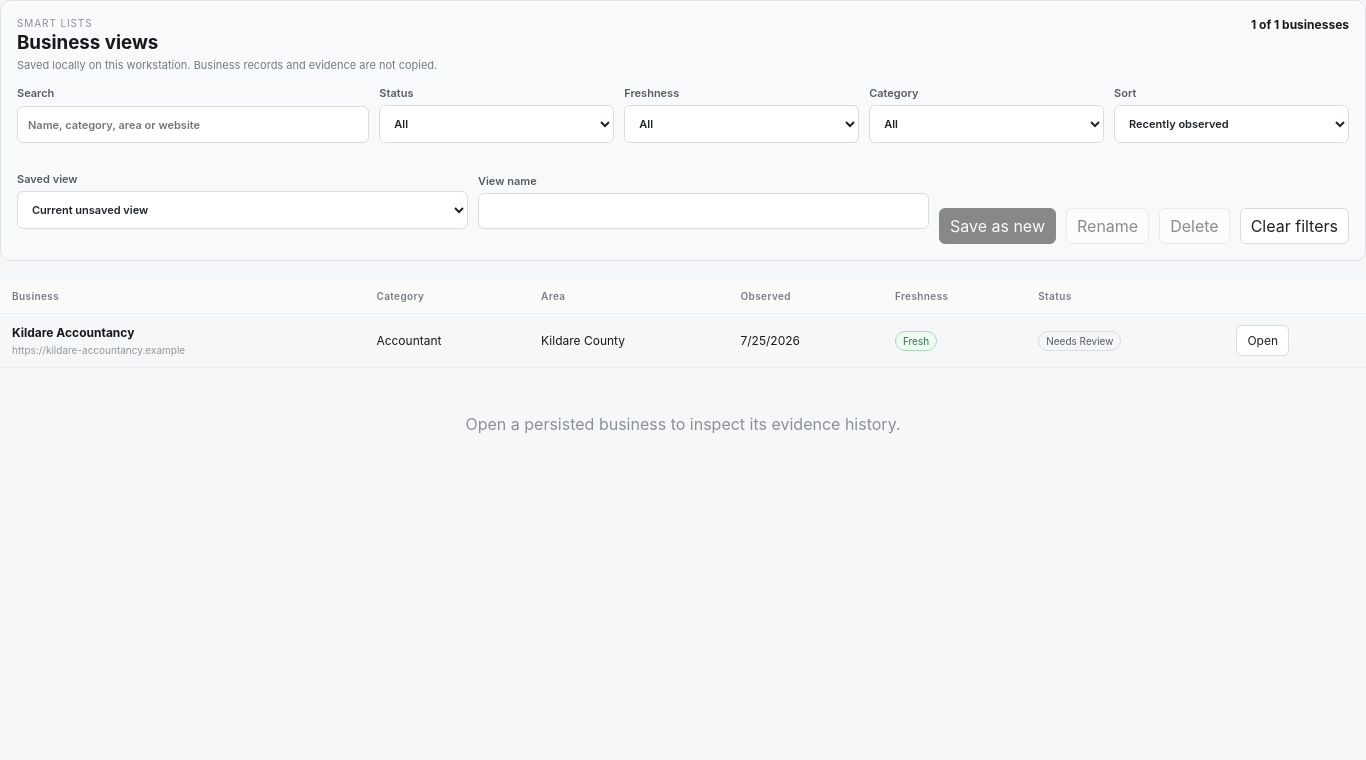
Test: BusinessWorkspace › retains the selected status when qualification saving fails
Click the button "Open" at coordinates (1263, 340), box x1=1236 y1=325 x2=1289 y2=356
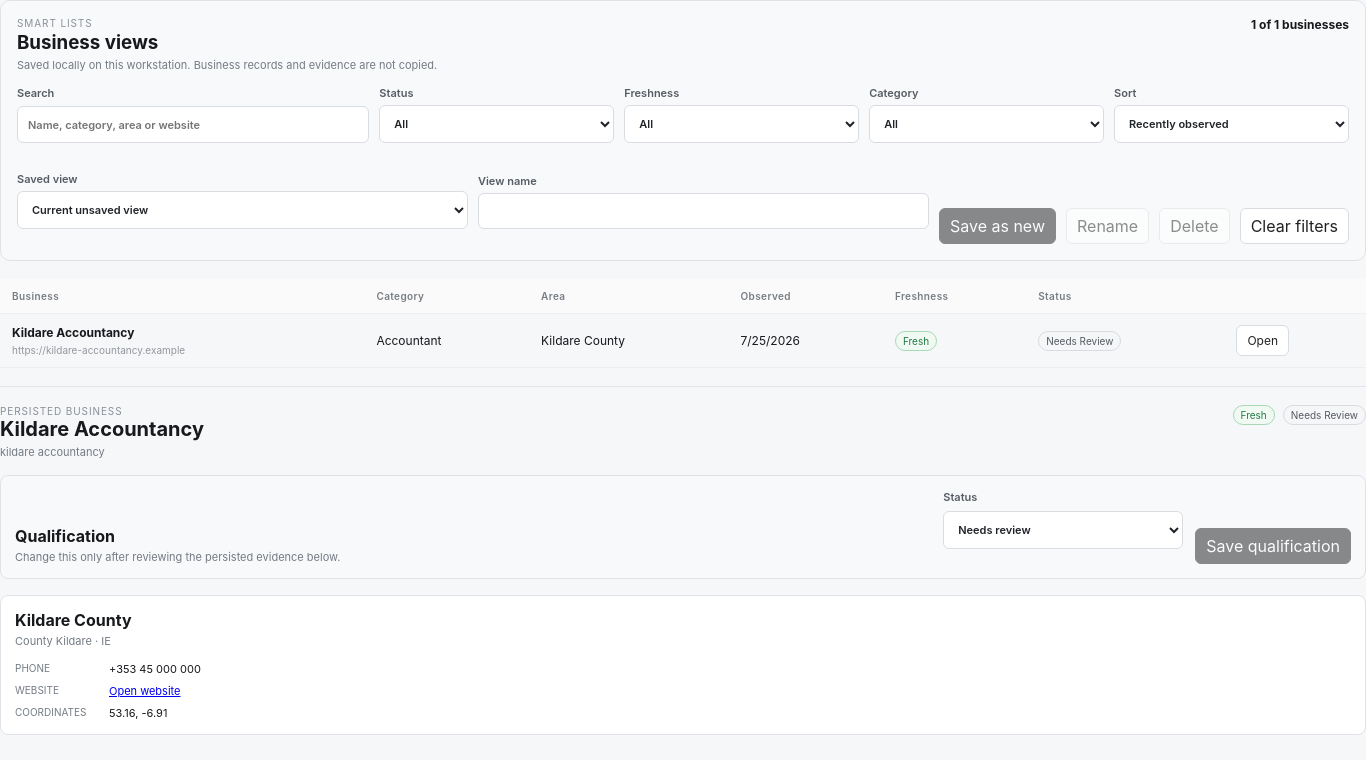
Select "Unsuitable" in the dropdown labelled "Status" below "Observed" at coordinates (1063, 530), box x1=943 y1=511 x2=1183 y2=549
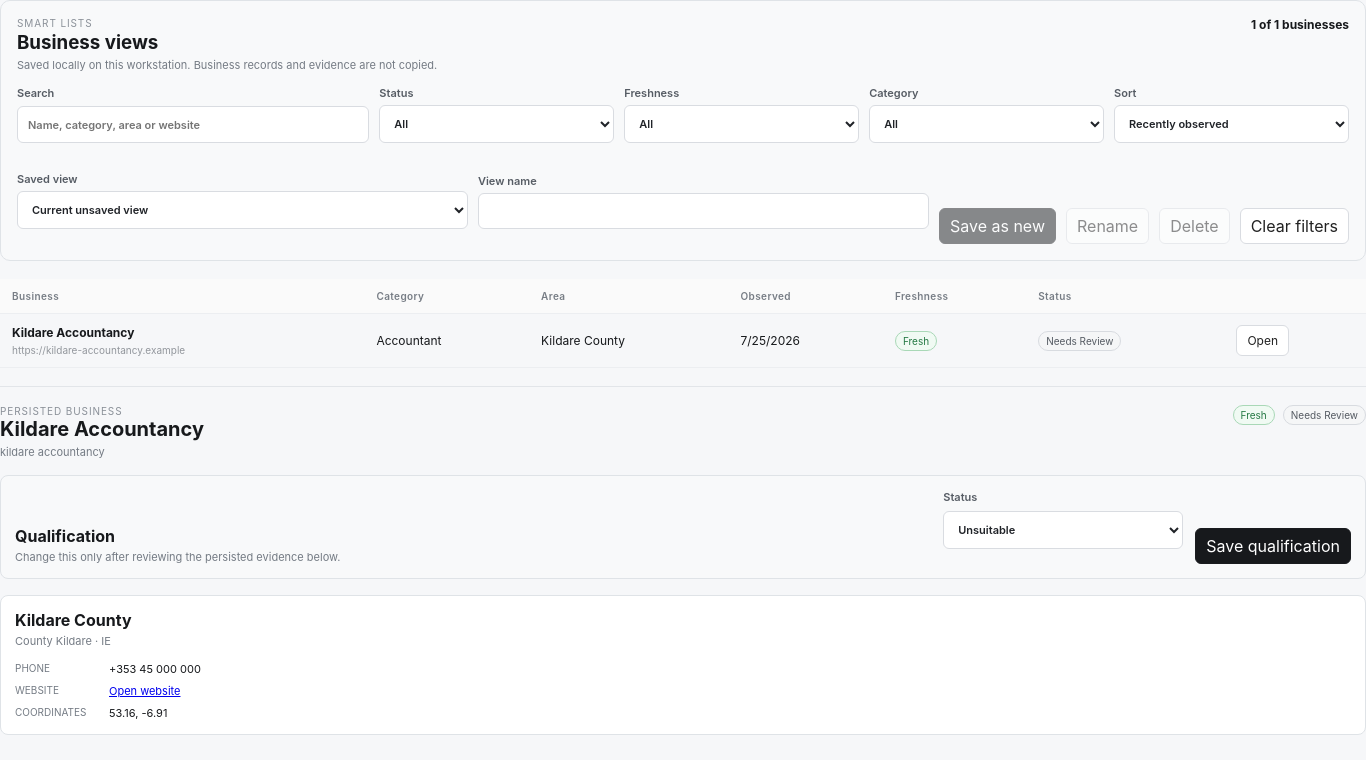
Click the button "Save qualification" at coordinates (1273, 546), box x1=1195 y1=528 x2=1351 y2=564
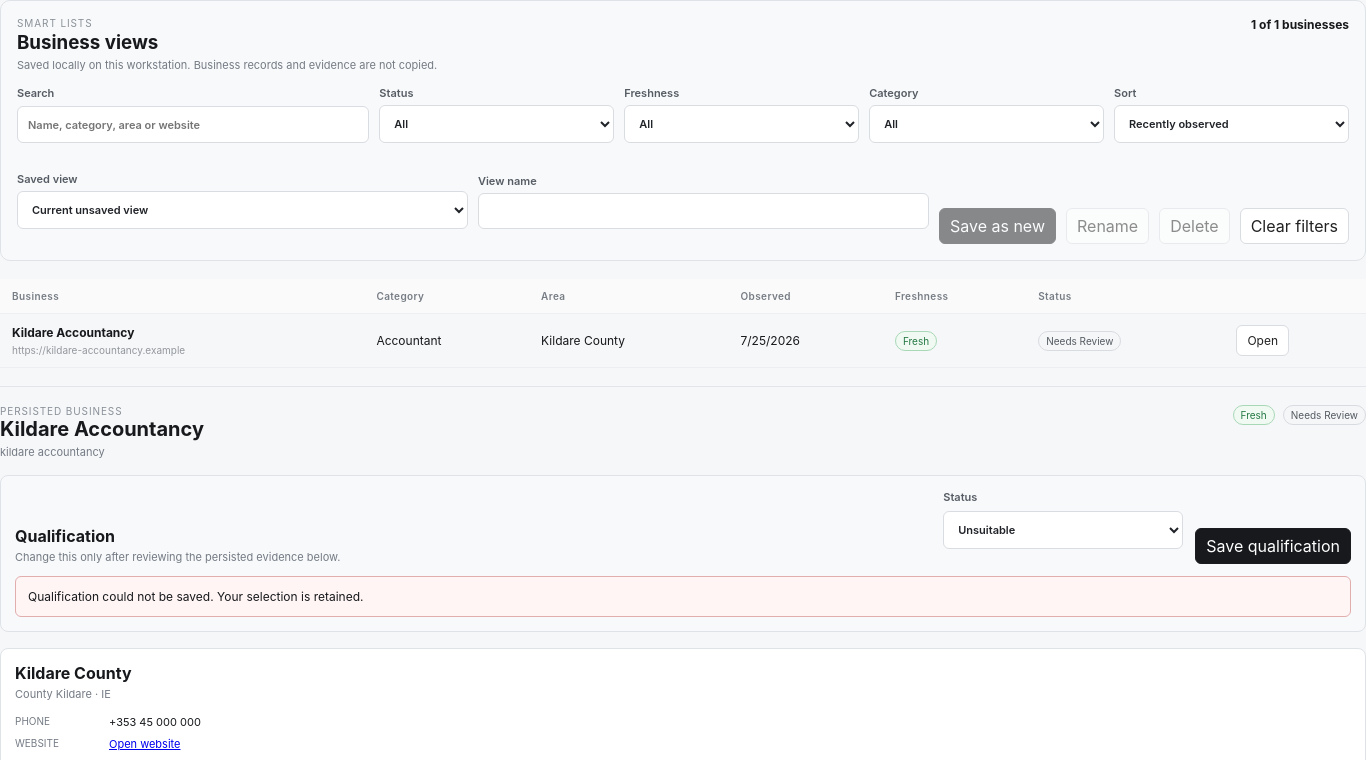
Check: the message reads "Qualification could not be saved. Your selection is retained.", box x1=28 y1=589 x2=364 y2=604
